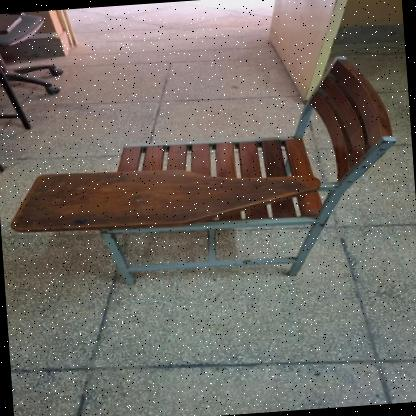chair: (0, 47, 411, 300)
